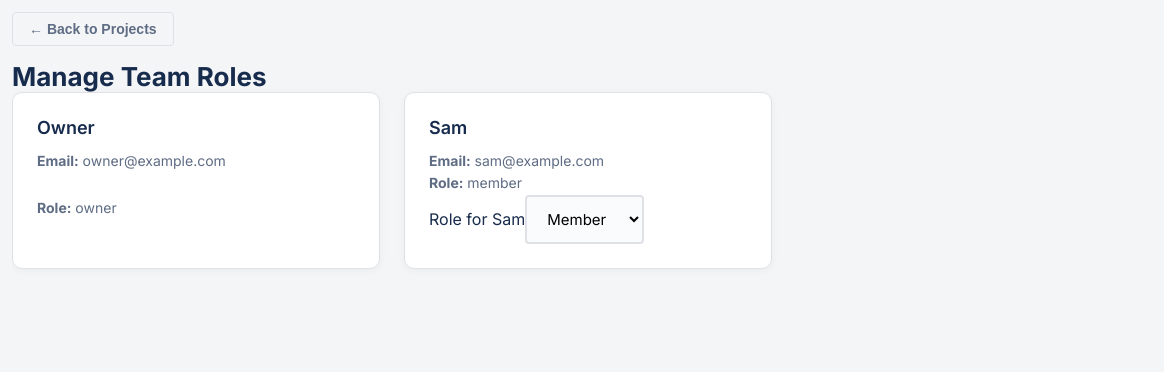
keeps the saved role when an update fails
Select "Manager" in the dropdown at (585, 219), box [525,195,644,244]
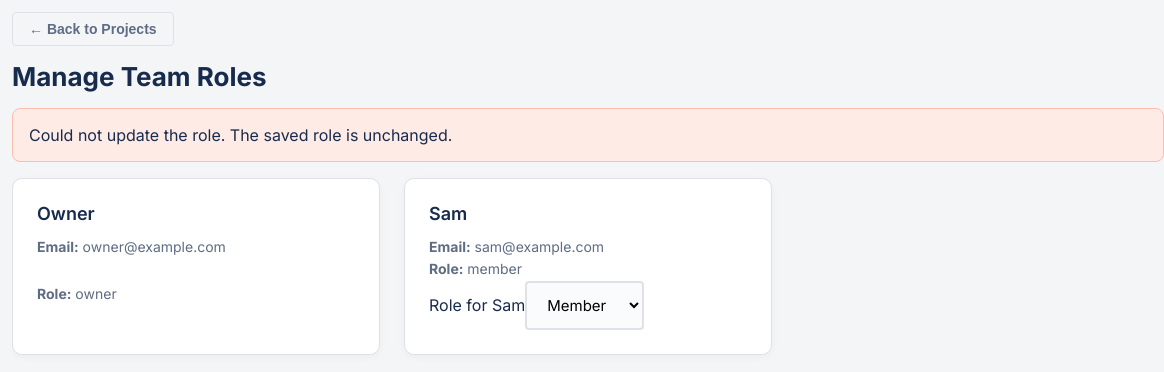
Expected: the message shows "Could not update", [29,125,452,145]
